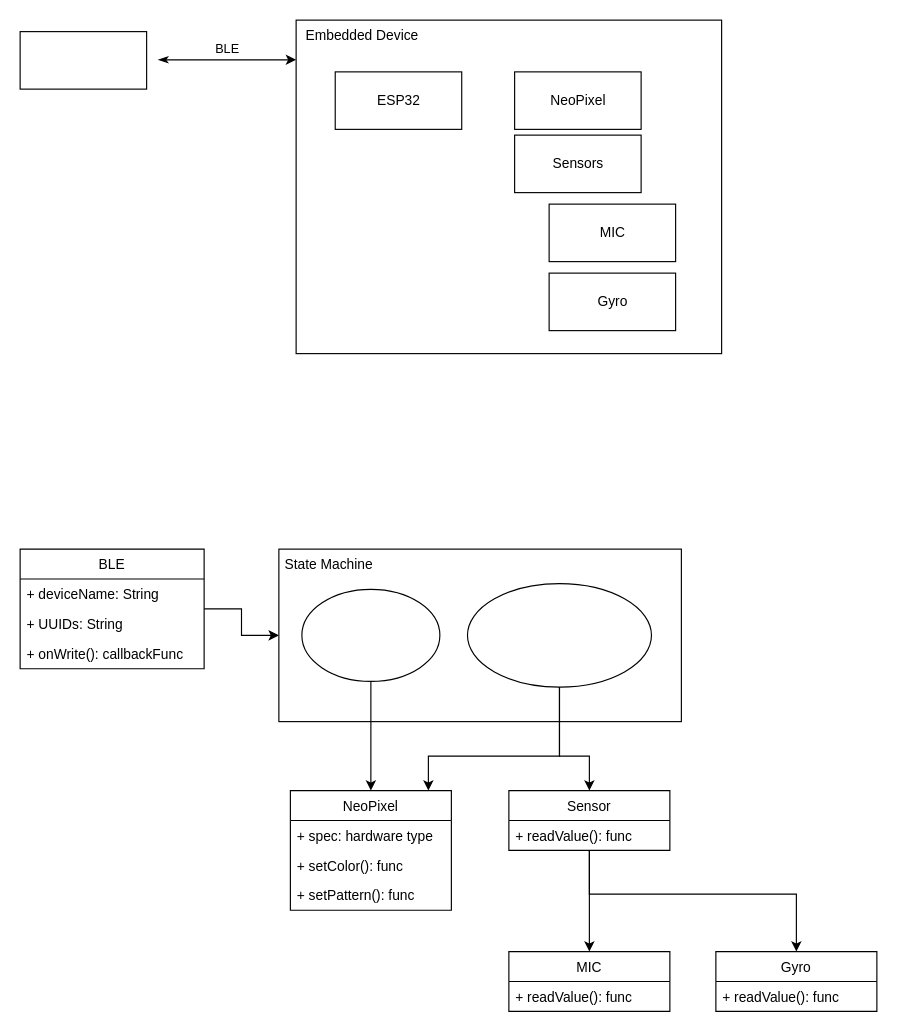
Some shapes in this 897 by 1035 pixel diagram are drawn without their labels. Each missing label, with the centre of its shape:
"Controller Device (Mobile Phone)" belongs at (83,59).
"Lighting" belongs at (370,634).
"Lighting Using Sensors" belongs at (558,634).
